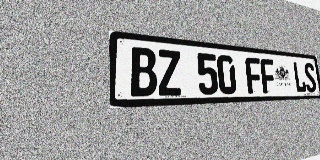0: (216, 54, 237, 94)
5: (197, 53, 219, 95)
B: (129, 47, 158, 96)
F: (245, 57, 263, 94), (260, 58, 277, 93)
L: (292, 61, 307, 93)
S: (303, 62, 317, 92)
Z: (157, 49, 182, 96)
